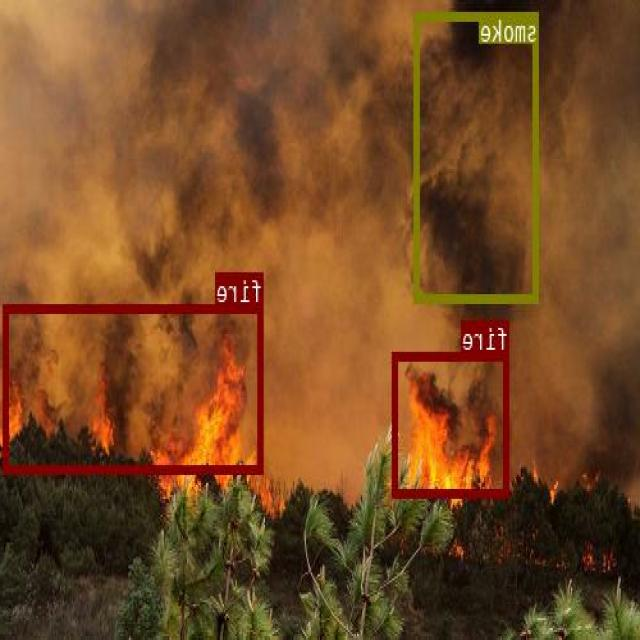fire: (5, 303, 265, 472), (393, 352, 510, 496)
smoke: (415, 10, 539, 302)
